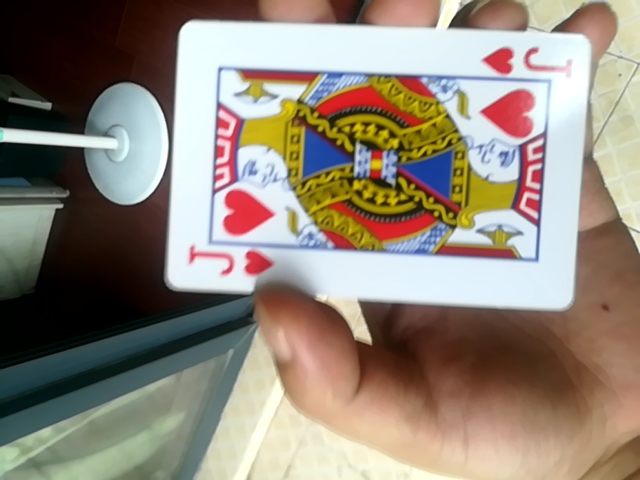hx j: (167, 20, 598, 317)
